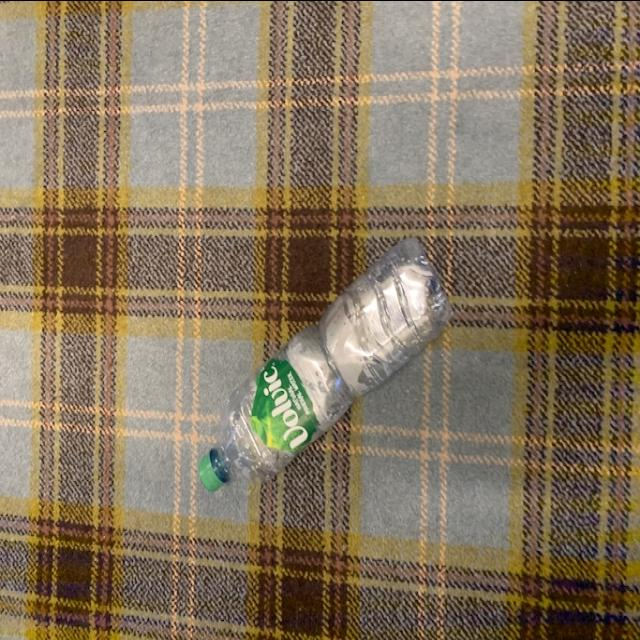litter: (198, 231, 452, 491)
